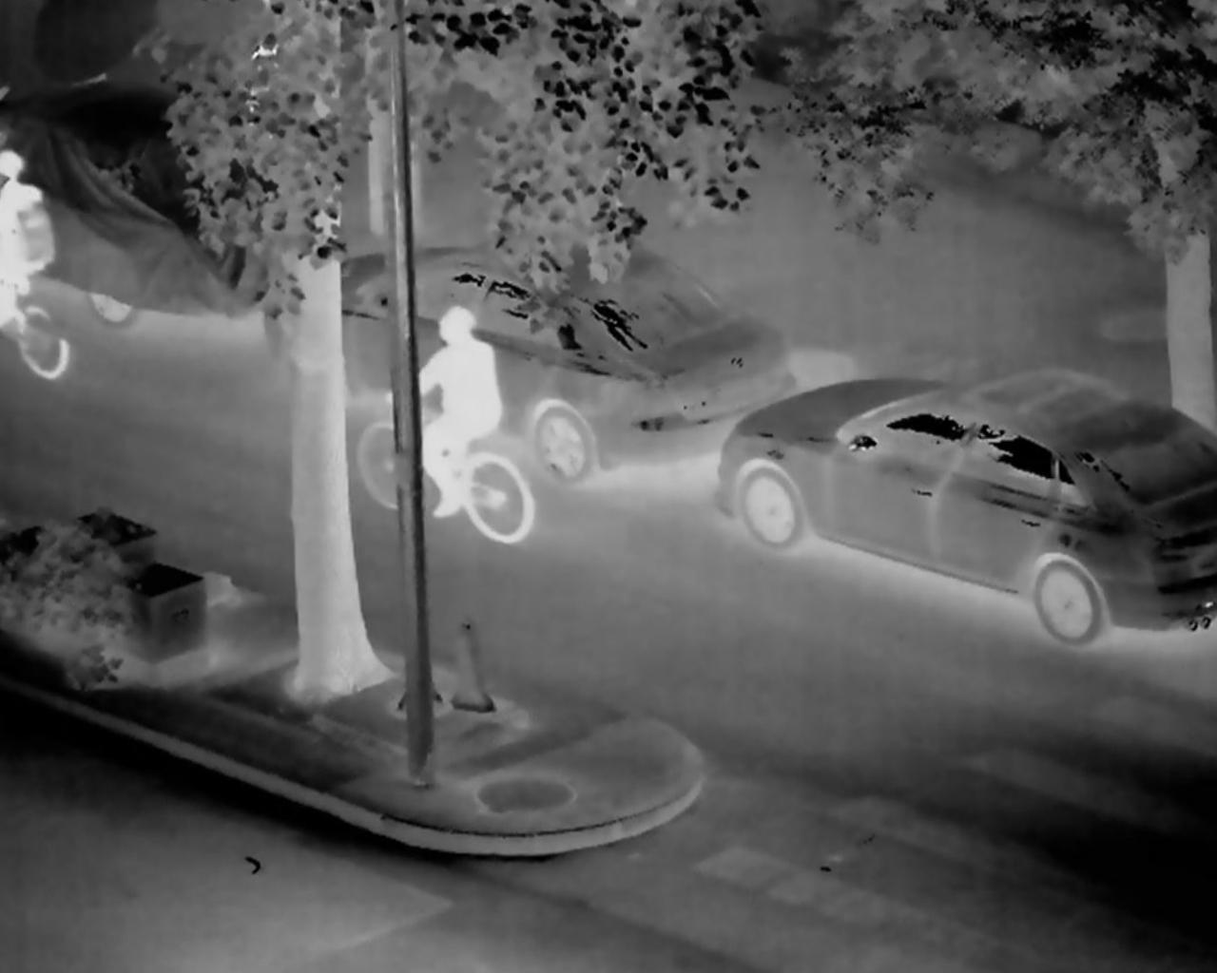person: (375, 297, 519, 525), (4, 143, 84, 373)
